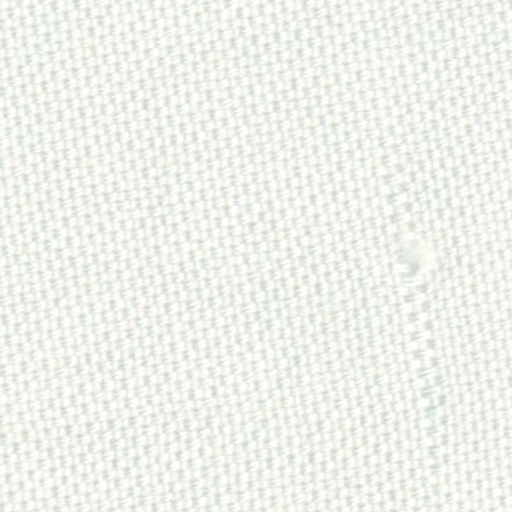PoDong: (380, 206, 464, 283)
